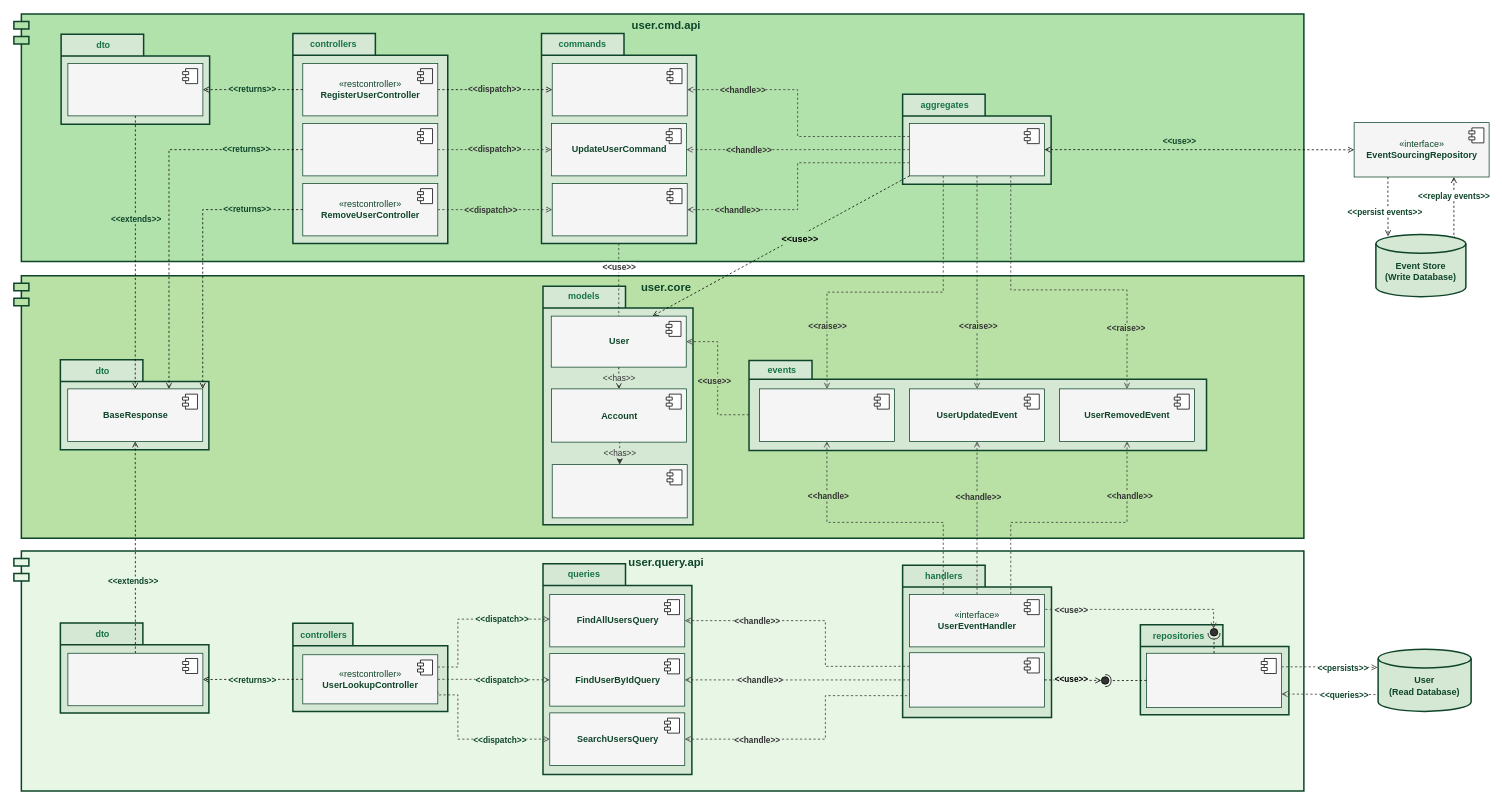
This 1502x804 diagram has some shape labels left out. The centre of each missing label's shape, as x and y in pixels:
"RegisterUserCommand" goes at [619,89].
"RegisterUserResponse" goes at [135,89].
"RemoveUserCommand" goes at [619,209].
"Role" goes at [619,491].
"UserLookupResponse" goes at [135,679].
"UserRegisteredEvent" goes at [827,414].
"«aggregate» UserAggregate" goes at [977,149].
"«interface» UserQueryHandler" goes at [977,679].
"«interface» UserRepository" goes at [1214,680].
"«restcontroller» UpdateUserController" goes at [370,149].
